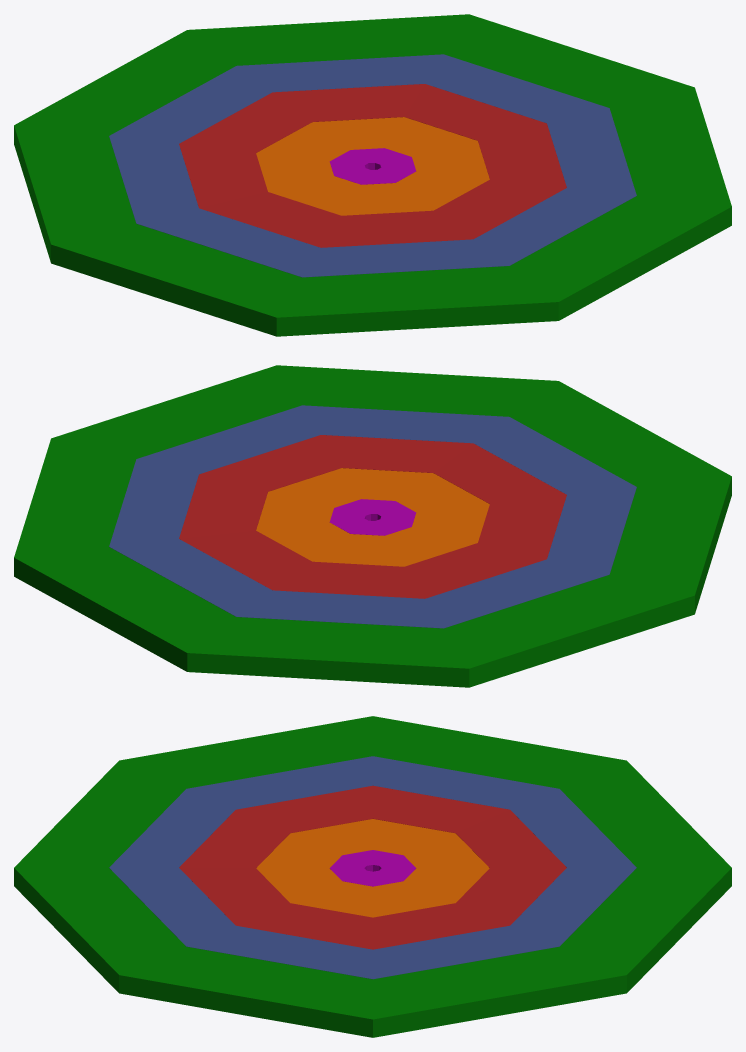
File: arena.fbx
The picture shows the model from 3 angles, top to bottom: view 1: azimuth 30°, elevation 25°; view 2: azimuth 150°, elevation 25°; view 3: azimuth 270°, elevation 25°; orthographic projection. The views are drawn at different scales.
Parts seen in each view (by area): view 1: Greenv4_4, Greenv4_5, Greenv4_3, Greenv4_6, Greenv4_8, Greenv4_1, Greenv4_7, Greenv4_2, Bluev4_5, Bluev4_6, Bluev4_1, Bluev4_2 (+21 smaller); view 2: Greenv4_7, Greenv4_6, Greenv4_8, Greenv4_5, Greenv4_3, Greenv4_2, Greenv4_4, Greenv4_1, Bluev4_8, Bluev4_7, Bluev4_4, Bluev4_3 (+21 smaller); view 3: Greenv4_1, Greenv4_2, Greenv4_3, Greenv4_8, Greenv4_5, Greenv4_6, Greenv4_4, Greenv4_7, Bluev4_2, Bluev4_3, Bluev4_6, Bluev4_7 (+21 smaller).
Part boxes in pixels (x1=…): Greenv4_4: x1=276, y1=266, x2=558, y2=336; Greenv4_5: x1=51, y1=223, x2=301, y2=336; Greenv4_3: x1=510, y1=196, x2=731, y2=320; Greenv4_6: x1=14, y1=125, x2=135, y2=262; Greenv4_8: x1=187, y1=14, x2=468, y2=65; Greenv4_1: x1=444, y1=14, x2=694, y2=107; Greenv4_7: x1=14, y1=30, x2=235, y2=135; Greenv4_2: x1=610, y1=87, x2=731, y2=206; Bluev4_5: x1=302, y1=239, x2=509, y2=277; Bluev4_6: x1=136, y1=208, x2=320, y2=277; Bluev4_1: x1=237, y1=54, x2=443, y2=92; Bluev4_2: x1=425, y1=54, x2=608, y2=123; Greenv4_7: x1=187, y1=617, x2=469, y2=687; Greenv4_6: x1=444, y1=574, x2=694, y2=687; Greenv4_8: x1=14, y1=547, x2=235, y2=671; Greenv4_5: x1=610, y1=476, x2=731, y2=613; Greenv4_3: x1=277, y1=365, x2=558, y2=416; Greenv4_2: x1=51, y1=365, x2=301, y2=458; Greenv4_4: x1=510, y1=381, x2=731, y2=486; Greenv4_1: x1=14, y1=438, x2=135, y2=557; Bluev4_8: x1=236, y1=590, x2=443, y2=628; Bluev4_7: x1=425, y1=559, x2=609, y2=628; Bluev4_4: x1=302, y1=405, x2=508, y2=443; Bluev4_3: x1=137, y1=405, x2=320, y2=474; Greenv4_1: x1=373, y1=946, x2=626, y2=1037; Greenv4_2: x1=119, y1=946, x2=372, y2=1037; Greenv4_3: x1=14, y1=867, x2=185, y2=992; Greenv4_8: x1=560, y1=867, x2=731, y2=992; Greenv4_5: x1=119, y1=716, x2=372, y2=788; Greenv4_6: x1=373, y1=716, x2=626, y2=788; Greenv4_4: x1=14, y1=760, x2=185, y2=867; Greenv4_7: x1=560, y1=760, x2=731, y2=867; Bluev4_2: x1=373, y1=925, x2=558, y2=979; Bluev4_3: x1=187, y1=925, x2=372, y2=979; Bluev4_6: x1=186, y1=756, x2=372, y2=809; Bluev4_7: x1=373, y1=756, x2=559, y2=809.
Size of the model in its own units: 18898 by 568 by 18898.
